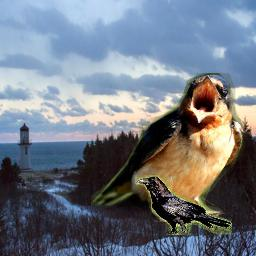Crow: (135, 175, 232, 235)
Swallow: (91, 73, 245, 222)
